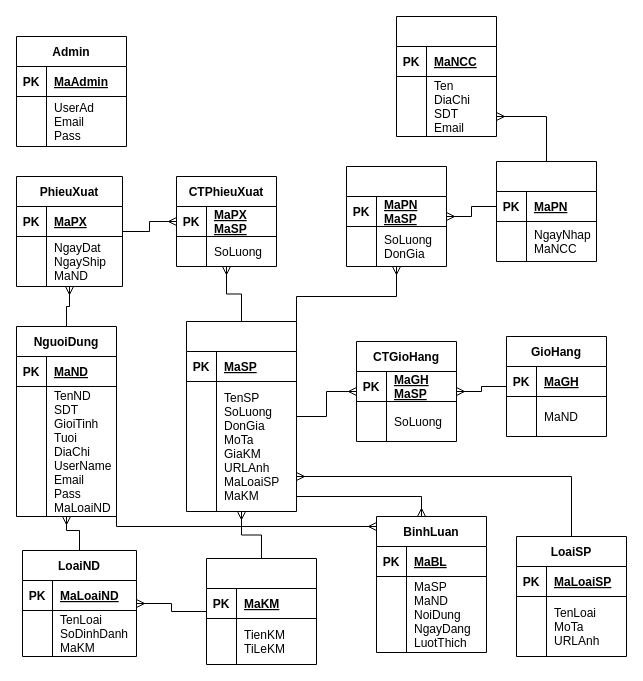
This 643x681 diagram has some shape labels left out. Each missing label, with the box of its shape:
BangKhuyenMai: (206, 558, 316, 664)
CTPhieuNhap: (346, 166, 446, 266)
NhaCC: (396, 16, 496, 136)
PhieuNhap: (496, 160, 596, 262)
SanPham: (186, 320, 296, 512)
